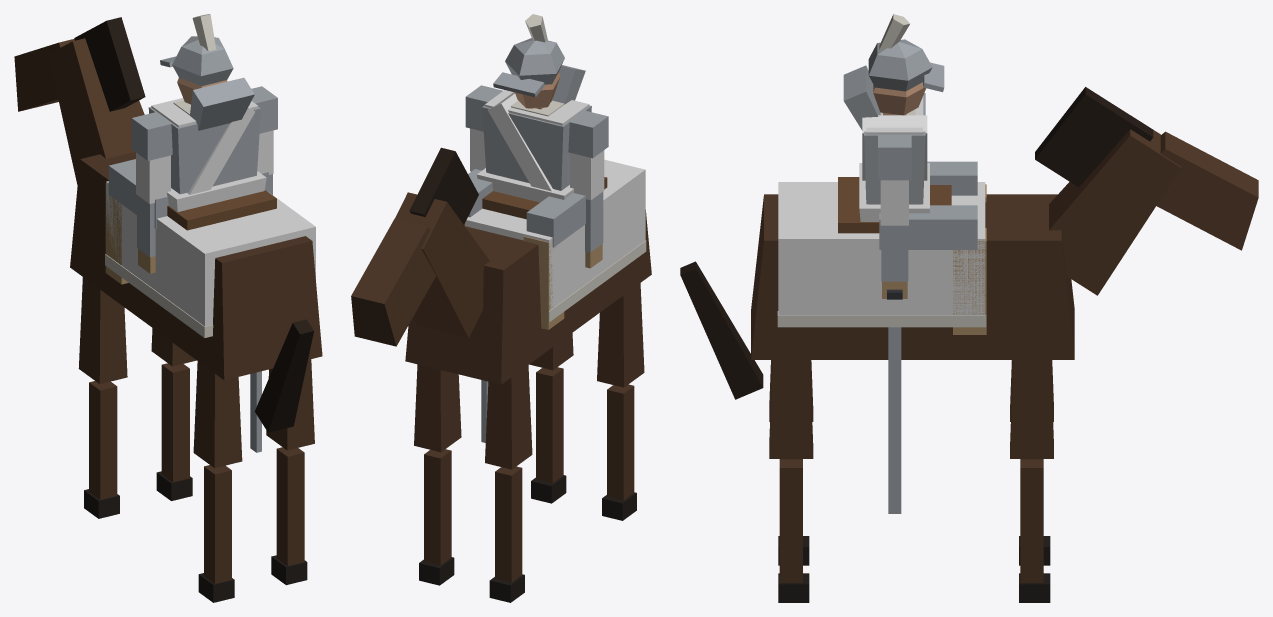
The model's file is cavalry_em_cuirassier_lod1.glb.
3 views of the same model, side by side, from view 1: azimuth 30°, elevation 25°; view 2: azimuth 150°, elevation 25°; view 3: azimuth 270°, elevation 25° (orthographic). The views are drawn at different scales.
Visible parts, largest first — view 1: em_cuirassier_lod1_static; view 2: em_cuirassier_lod1_static; view 3: em_cuirassier_lod1_static.
Part boxes in pixels (x1,y1,x2,y2): em_cuirassier_lod1_static: [14, 14, 322, 602]; em_cuirassier_lod1_static: [351, 14, 651, 602]; em_cuirassier_lod1_static: [680, 14, 1258, 602].
Size of the model in its own units: 0.615 by 2.4 by 2.23.
